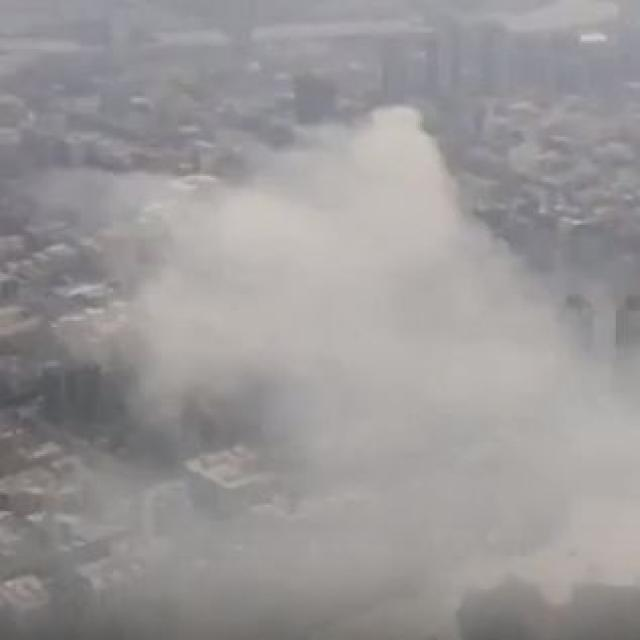Smoke: (177, 179, 627, 628)
